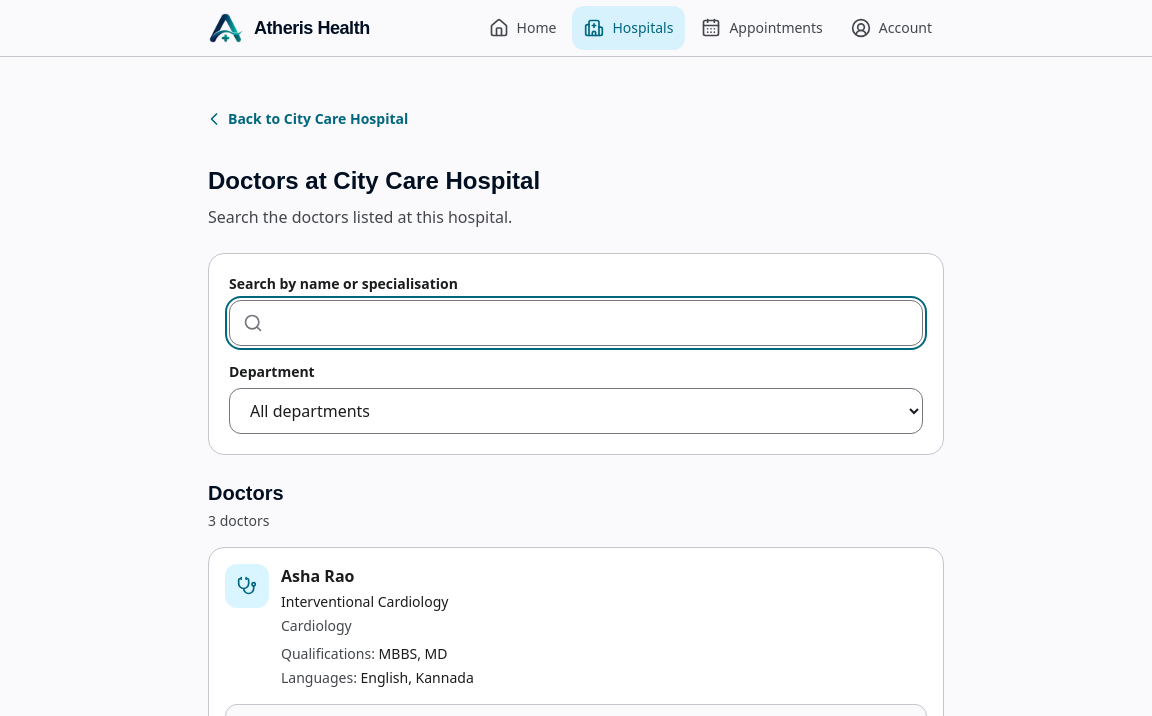
Test: doctor discovery — a hospital’s doctors › search › waits for typing to pause, then asks once with the final text and puts the search in the URL
This screenshot has width=1152, height=716.
Type "j" into the search field labelled "Search by name or specialisation".
click(576, 323); type("j")  # box [229,300,923,346]
Wait 349 ms
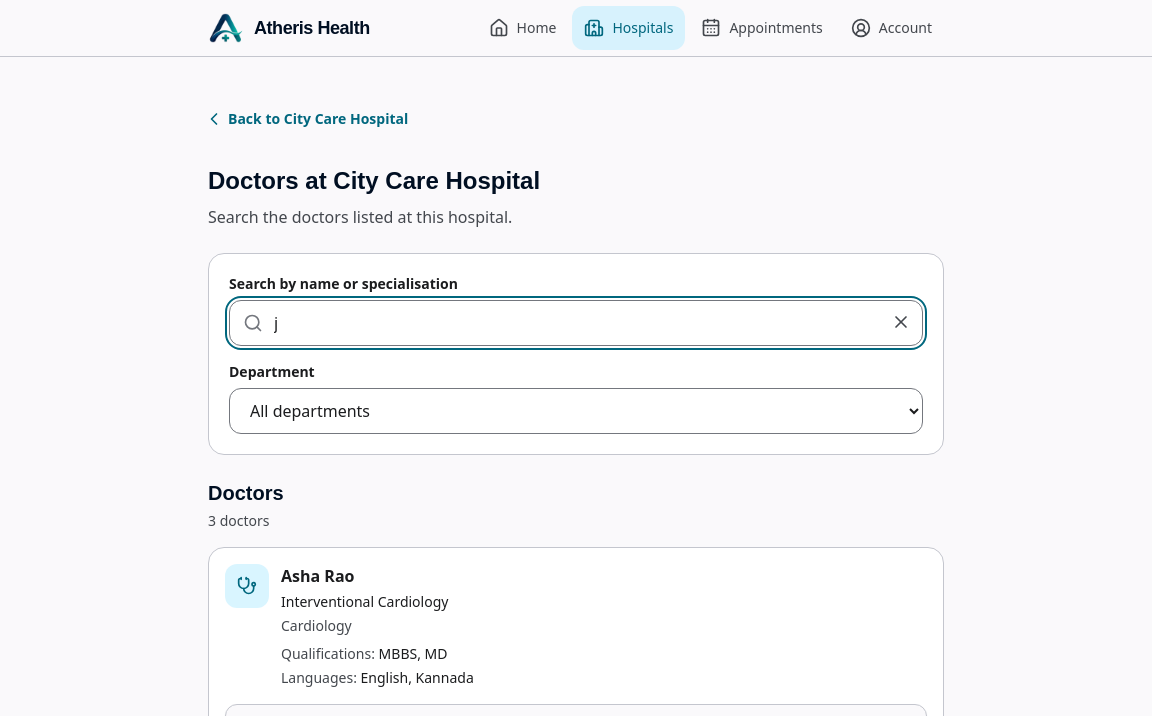
Replace the text in the search field labelled "Search by name or specialisation" with "jo" at (576, 323), box [229,300,923,346]
Wait 349 ms
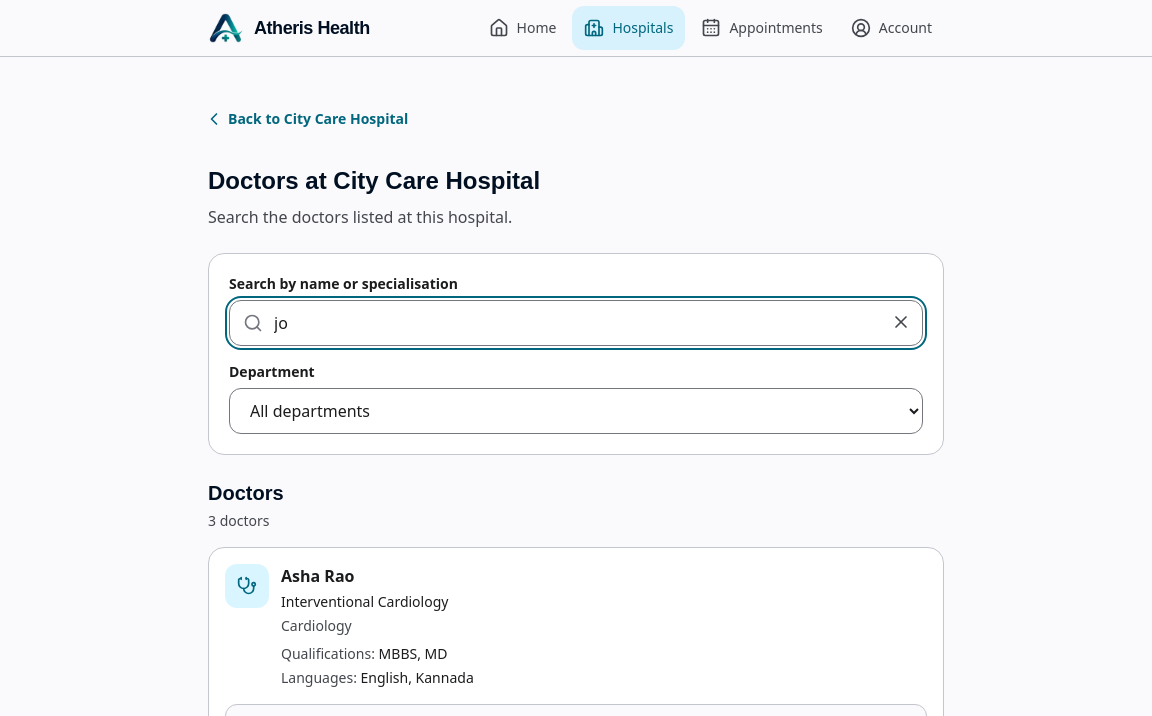
Replace the text in the search field labelled "Search by name or specialisation" with "joi" at (576, 323), box [229,300,923,346]
Wait 349 ms
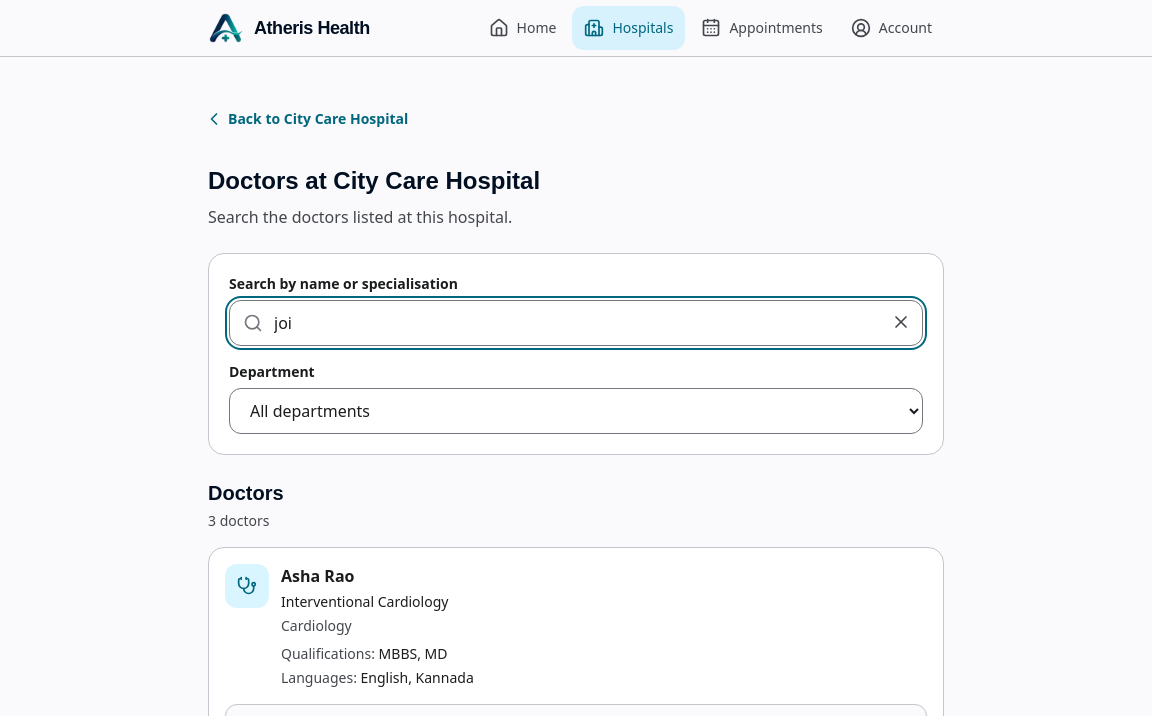
Replace the text in the search field labelled "Search by name or specialisation" with "join" at (576, 323), box [229,300,923,346]
Wait 349 ms
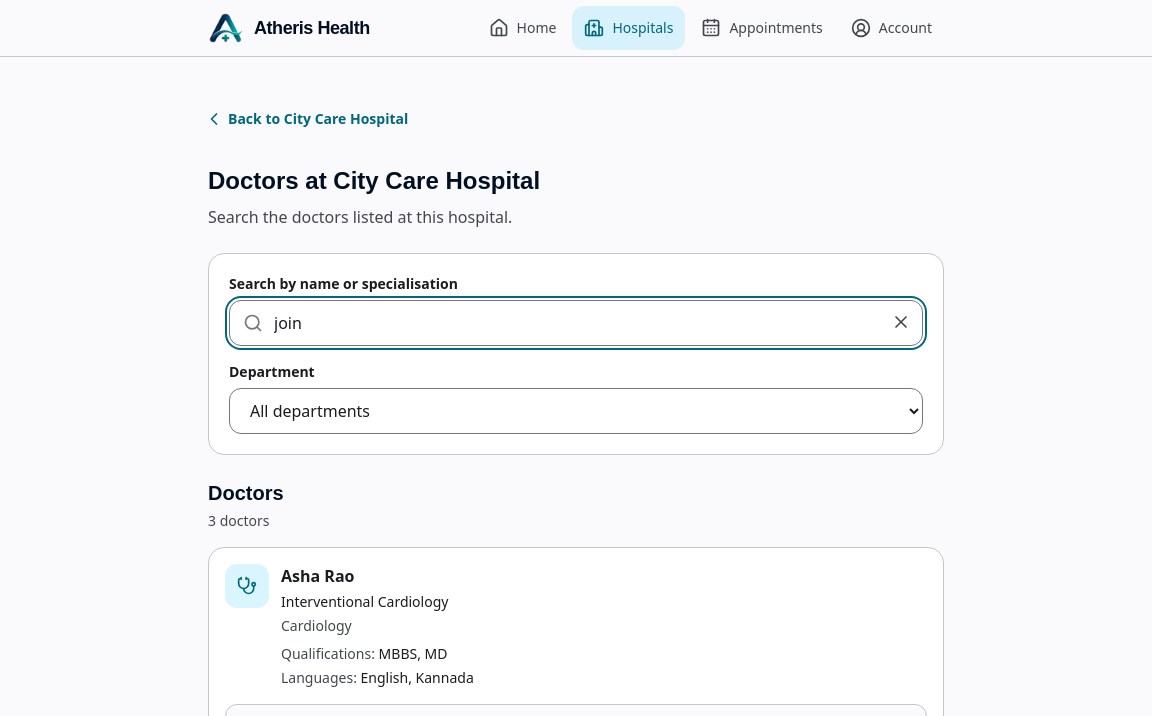
Replace the text in the search field labelled "Search by name or specialisation" with "joint" at (576, 323), box [229,300,923,346]
Wait 1400 ms
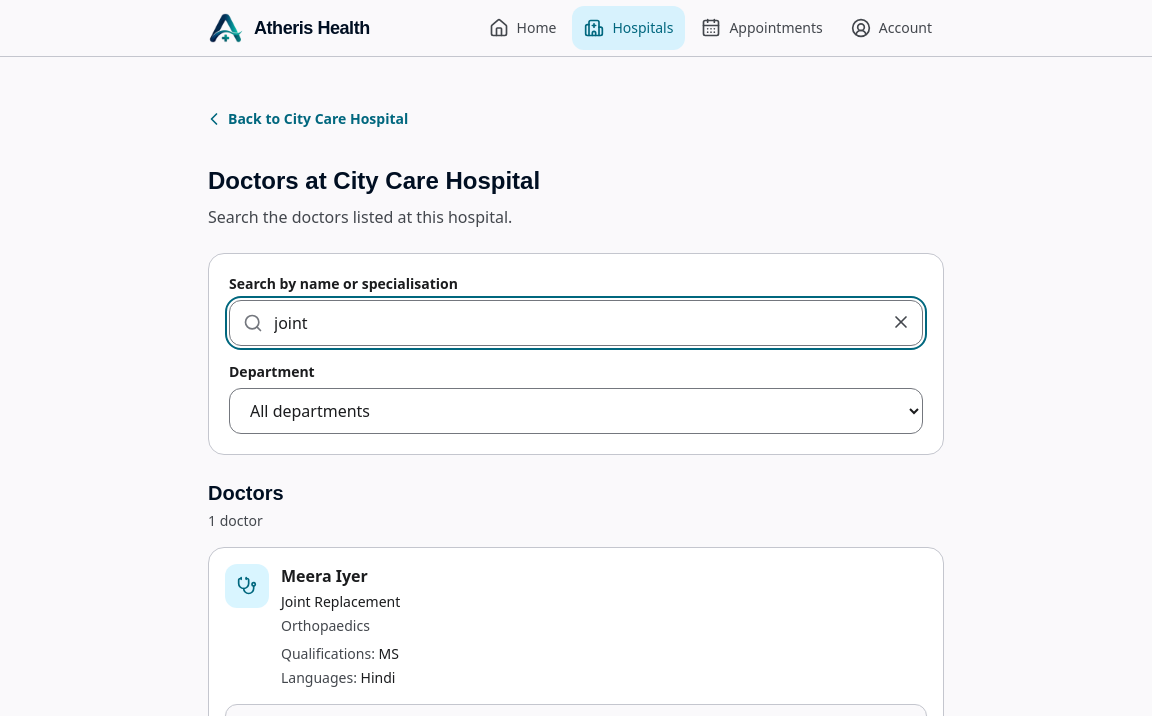
Expected: the message reads "1 doctor", [208,511,263,530]
